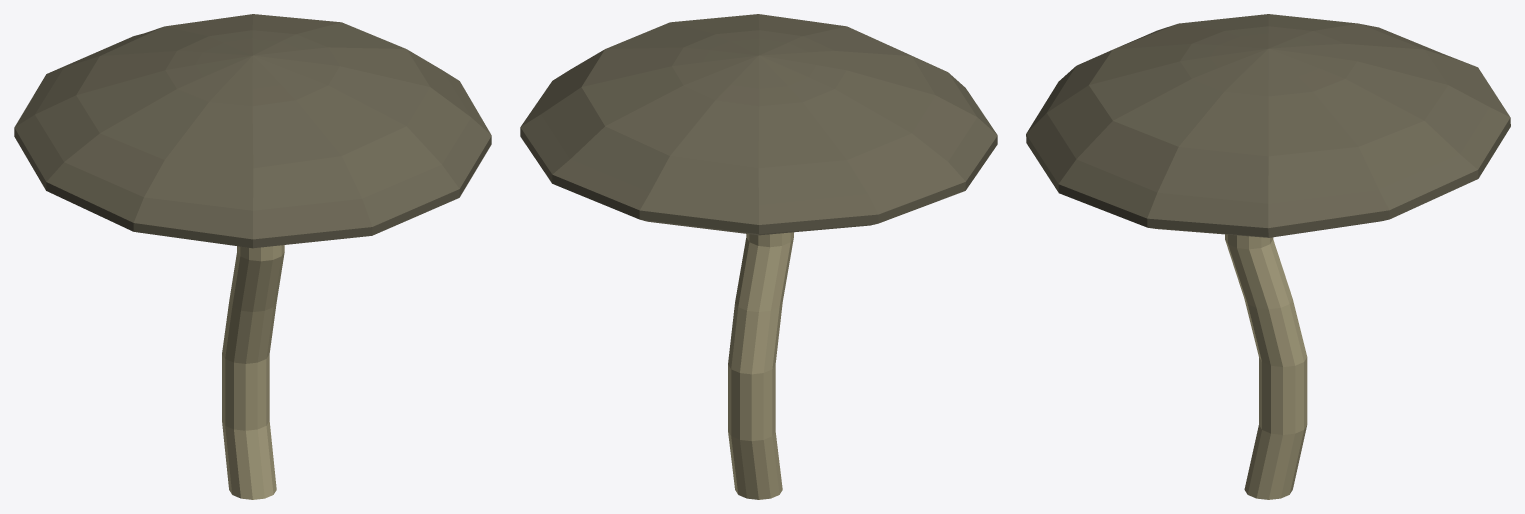
File: mushroomCurvedModel.fbx
3 views of the same model, side by side, from view 1: azimuth 30°, elevation 25°; view 2: azimuth 150°, elevation 25°; view 3: azimuth 270°, elevation 25° (orthographic).
Parts seen in each view (by area): view 1: curvedMushroomModel; view 2: curvedMushroomModel; view 3: curvedMushroomModel.
Boxes of the visible parts, x1=… form: curvedMushroomModel: x1=14, y1=14, x2=491, y2=499; curvedMushroomModel: x1=520, y1=14, x2=997, y2=499; curvedMushroomModel: x1=1026, y1=14, x2=1510, y2=499.
Size of the model in its own units: 38.63 by 38.78 by 38.63.
